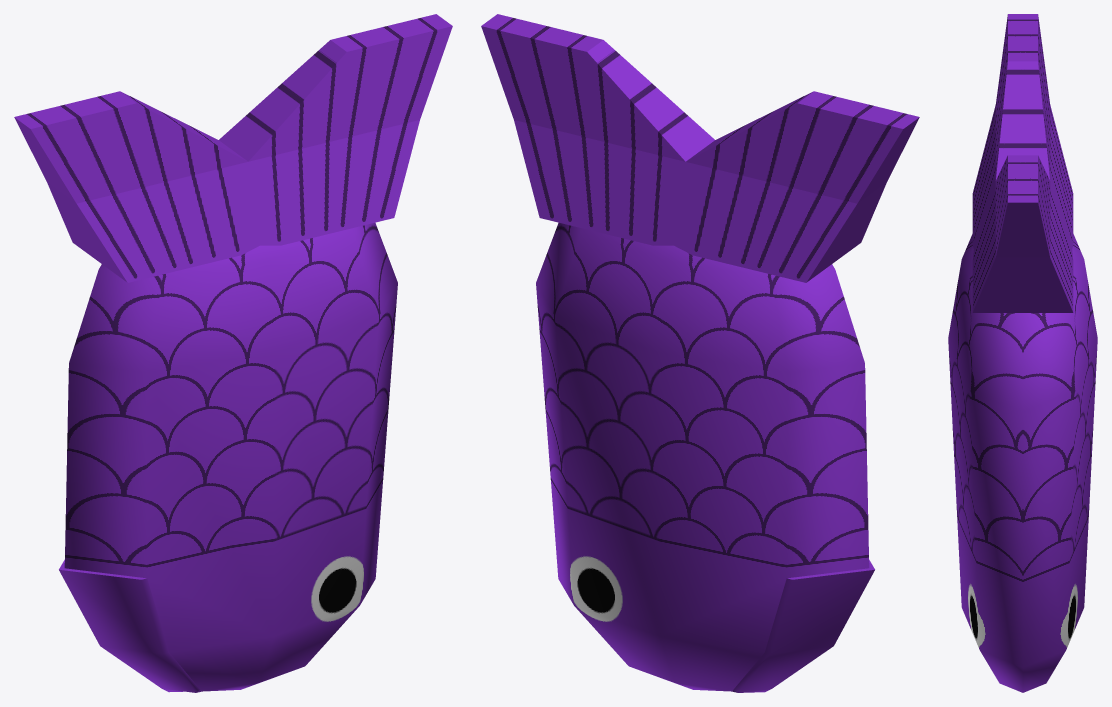
The model's file is fish.glb.
3 renders of one model, left to right at view 1: azimuth 30°, elevation 25°; view 2: azimuth 150°, elevation 25°; view 3: azimuth 270°, elevation 25°, orthographic. The views are drawn at different scales.
Visible parts, largest first — view 1: Sphere; view 2: Sphere; view 3: Sphere.
Part boxes in pixels (x1,y1,x2,y2): Sphere: (14, 14, 452, 692); Sphere: (481, 14, 919, 692); Sphere: (948, 14, 1097, 692).
Size of the model in its own units: 5.16 by 7.24 by 1.73.
1 material, 1 textured.
